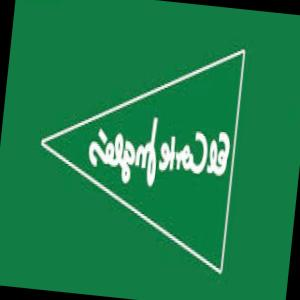corte_ingles: (42, 0, 300, 275)
